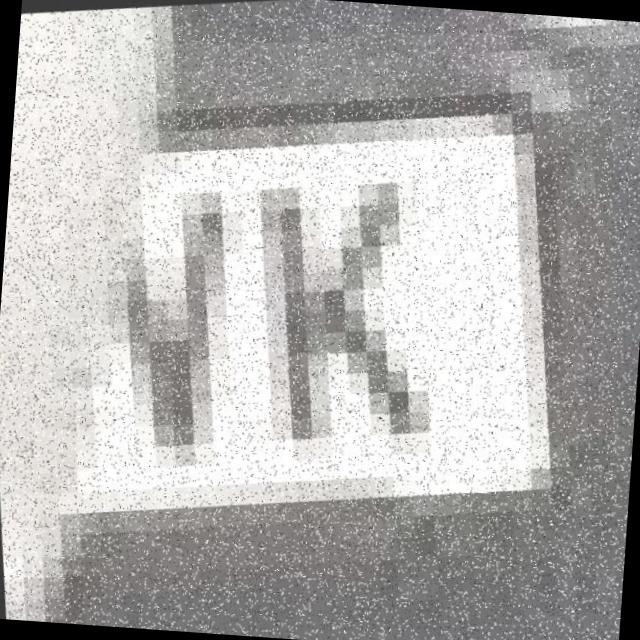LicensePlate: (41, 20, 599, 555)
